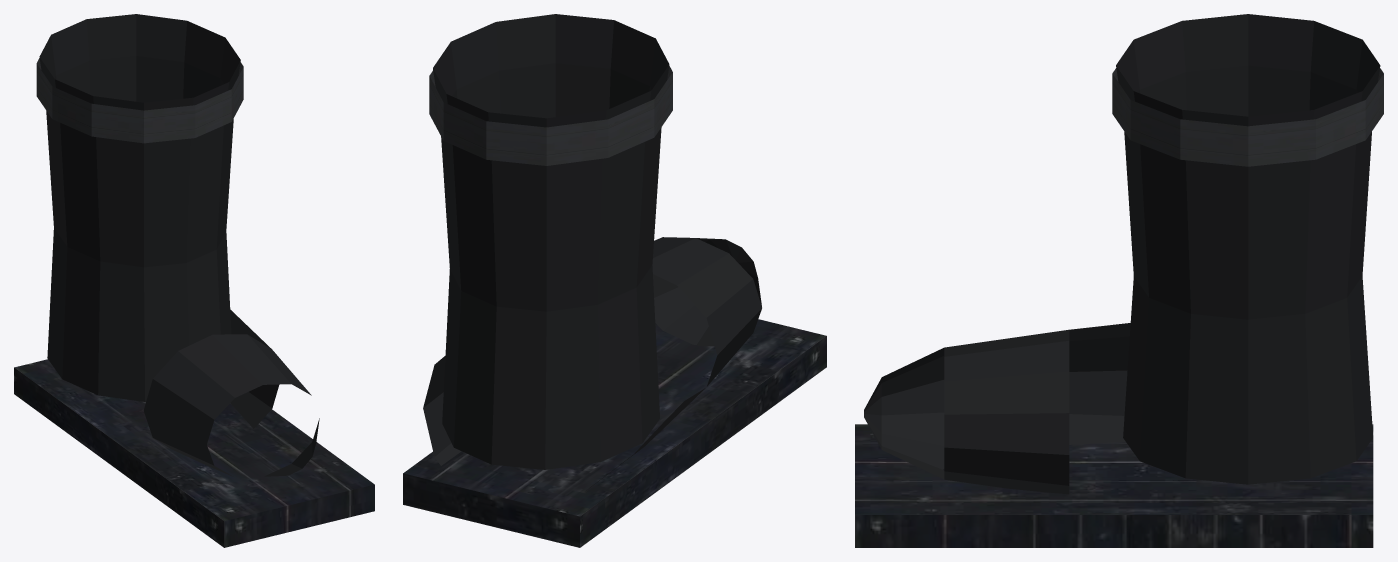
File: eq_present_3_boot.glb
3 views of the same model, side by side, from view 1: azimuth 30°, elevation 25°; view 2: azimuth 150°, elevation 25°; view 3: azimuth 270°, elevation 25° (orthographic). The views are drawn at different scales.
Visible parts, largest first — view 1: eq_present_3_boot; view 2: eq_present_3_boot; view 3: eq_present_3_boot.
Part boxes in pixels (x1,y1,x2,y2): eq_present_3_boot: (14,14,374,547); eq_present_3_boot: (403,14,826,547); eq_present_3_boot: (855,14,1383,547).
Size of the model in its own units: 0.1512 by 0.297 by 0.3197.
3 materials, 2 textured.
